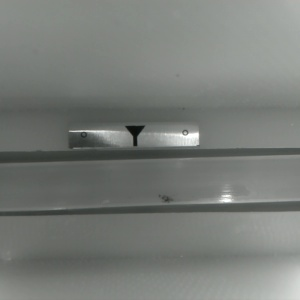finger: (124, 126, 144, 145)
